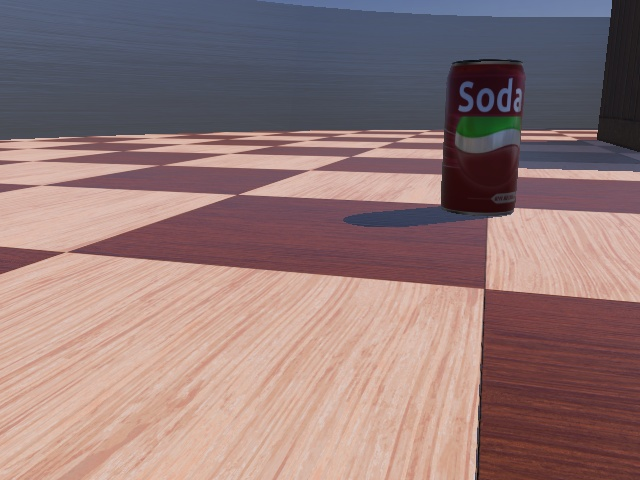lon_nuoc: (441, 58, 523, 215)
